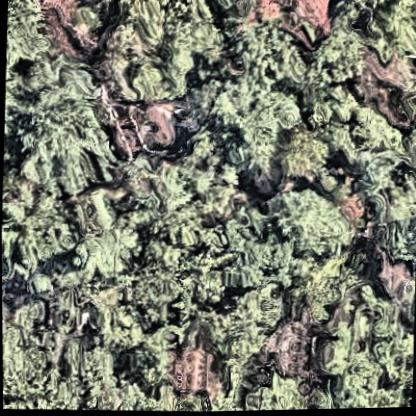tree-top: (2, 63, 122, 203), (105, 0, 213, 101), (308, 88, 408, 187), (112, 162, 214, 255), (332, 294, 404, 410), (210, 78, 292, 170), (1, 170, 72, 276), (124, 243, 198, 326), (275, 186, 355, 261), (68, 195, 136, 277), (2, 325, 69, 407), (200, 290, 269, 366), (232, 22, 306, 85), (213, 225, 277, 297), (2, 306, 43, 406), (272, 130, 337, 189), (361, 1, 416, 68), (309, 26, 362, 91), (89, 299, 147, 355), (4, 0, 47, 70), (235, 371, 304, 412)
